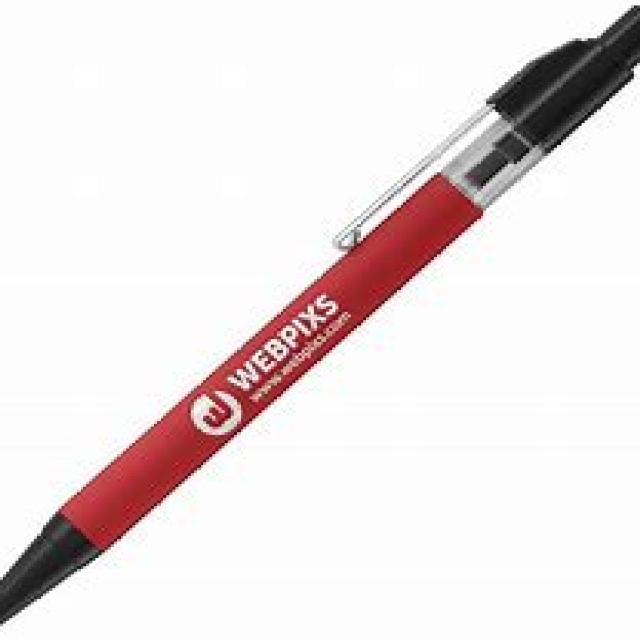pen: (0, 2, 640, 626)
